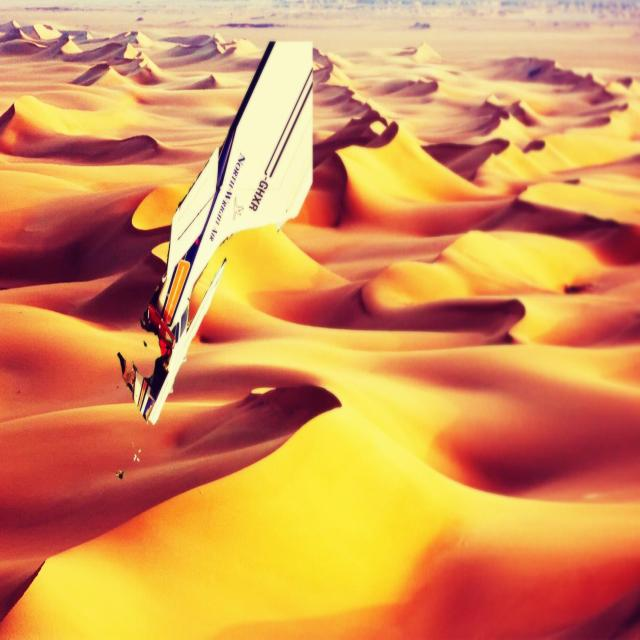airplane: (116, 38, 314, 426)
